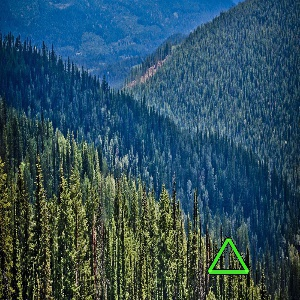triangle: (201, 236, 254, 280)
